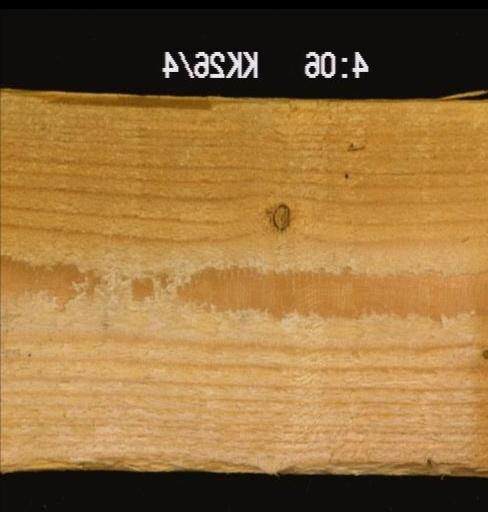dry_knot: (269, 199, 293, 228)
wave: (0, 438, 486, 473), (0, 88, 221, 113)
